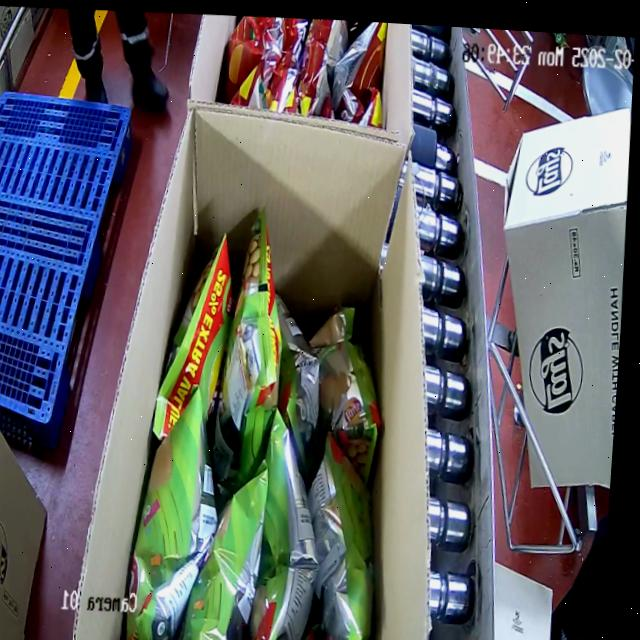MASALA: (219, 13, 388, 128)
YOGURT_HERB: (112, 218, 399, 640)
